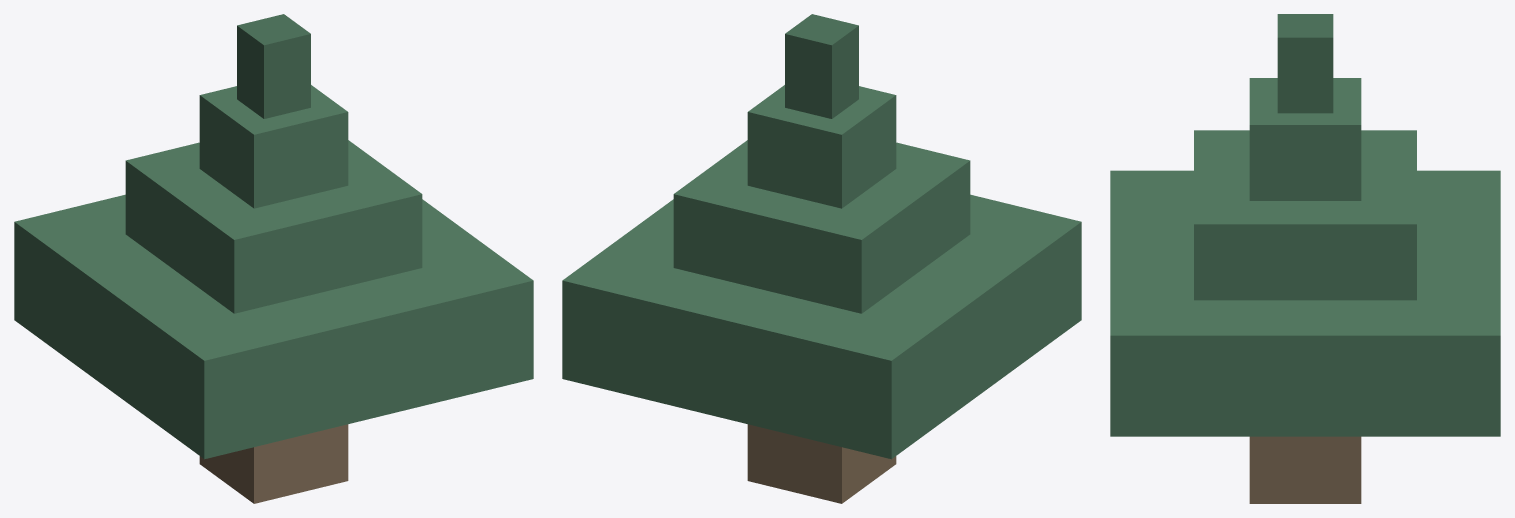
File: abeto_14.glb
The picture shows the model from 3 angles, left to right: view 1: azimuth 30°, elevation 25°; view 2: azimuth 150°, elevation 25°; view 3: azimuth 270°, elevation 25°; orthographic projection. The views are drawn at different scales.
Parts seen in each view (by area): view 1: abeto_14; view 2: abeto_14; view 3: abeto_14.
Part boxes in pixels (x1,y1,x2,y2): abeto_14: (14,14,533,503); abeto_14: (562,14,1081,503); abeto_14: (1110,14,1500,503).
Bounding box in the file's own units: 1.4 × 1.8 × 1.4.
